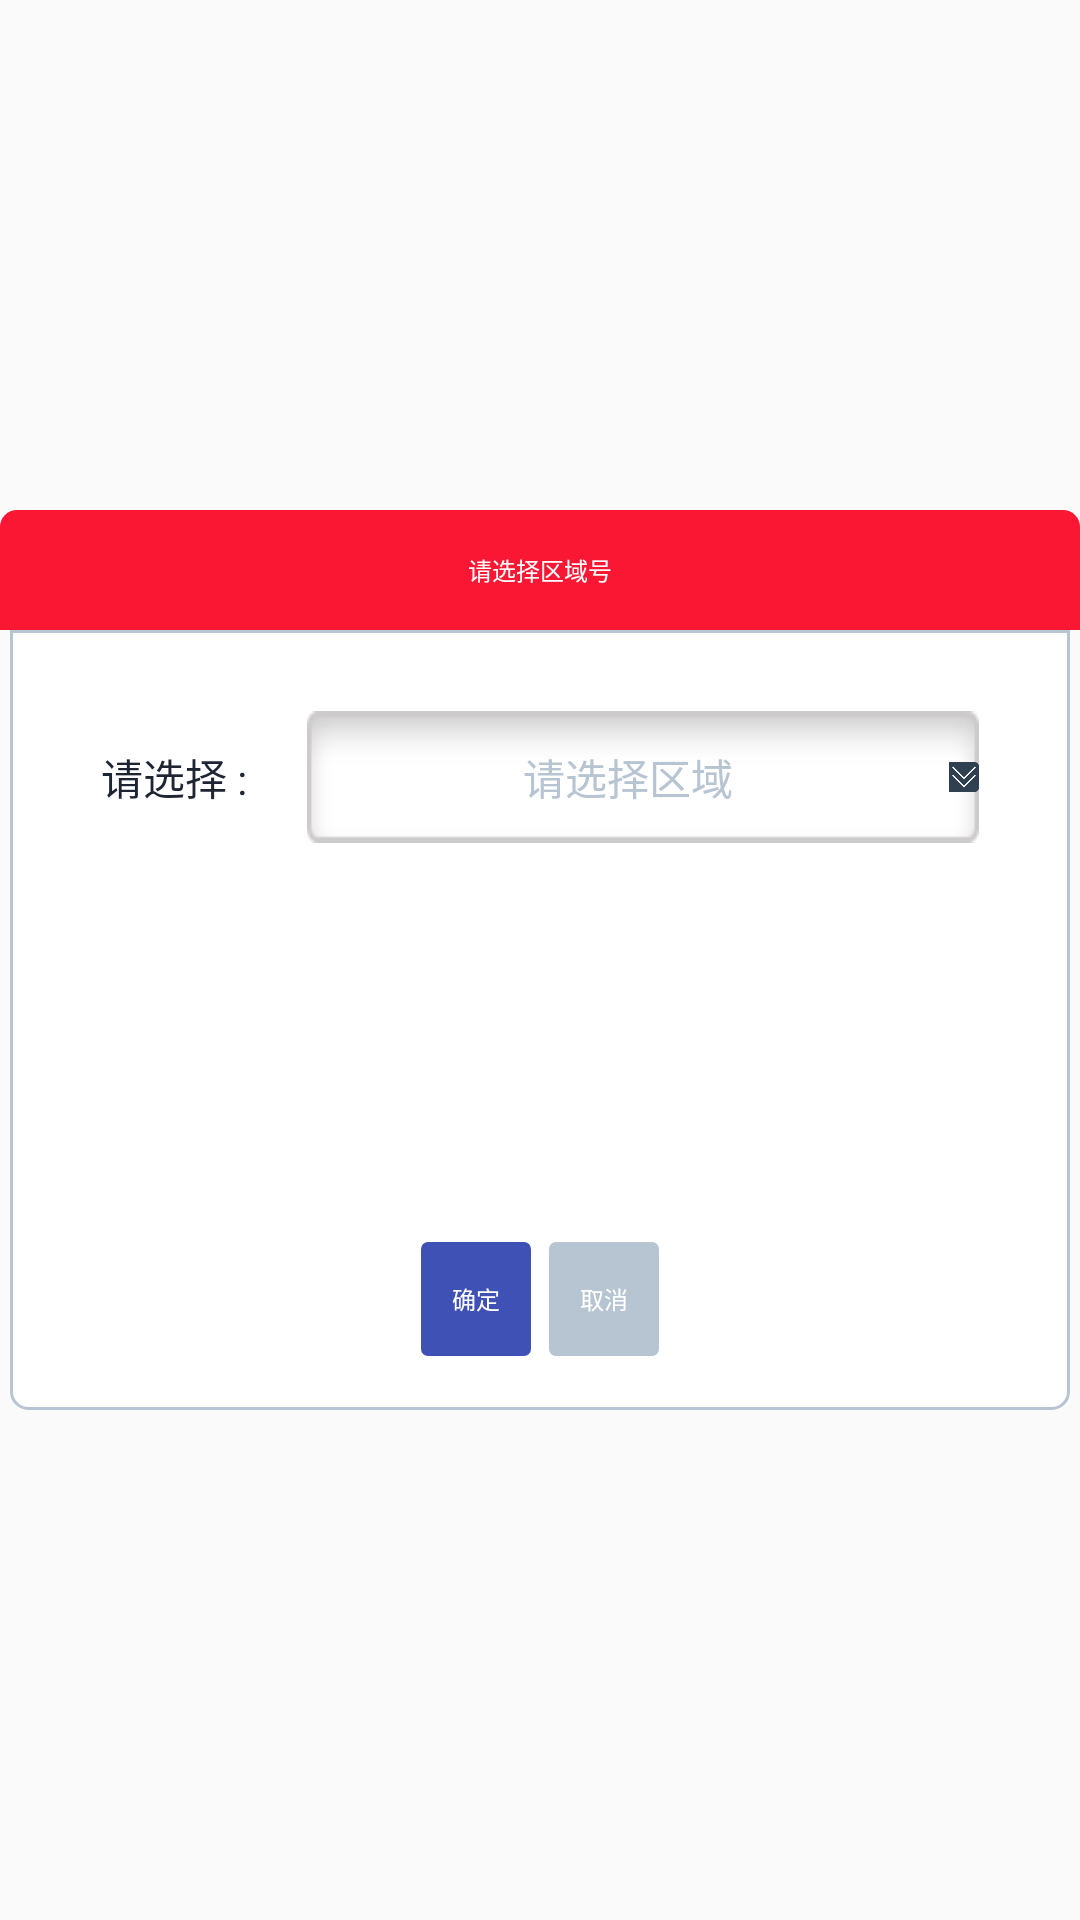

Screen size 1080px x 1920px. Icon name, then its center in pixels as point (x, y):
down: point (964, 777)
